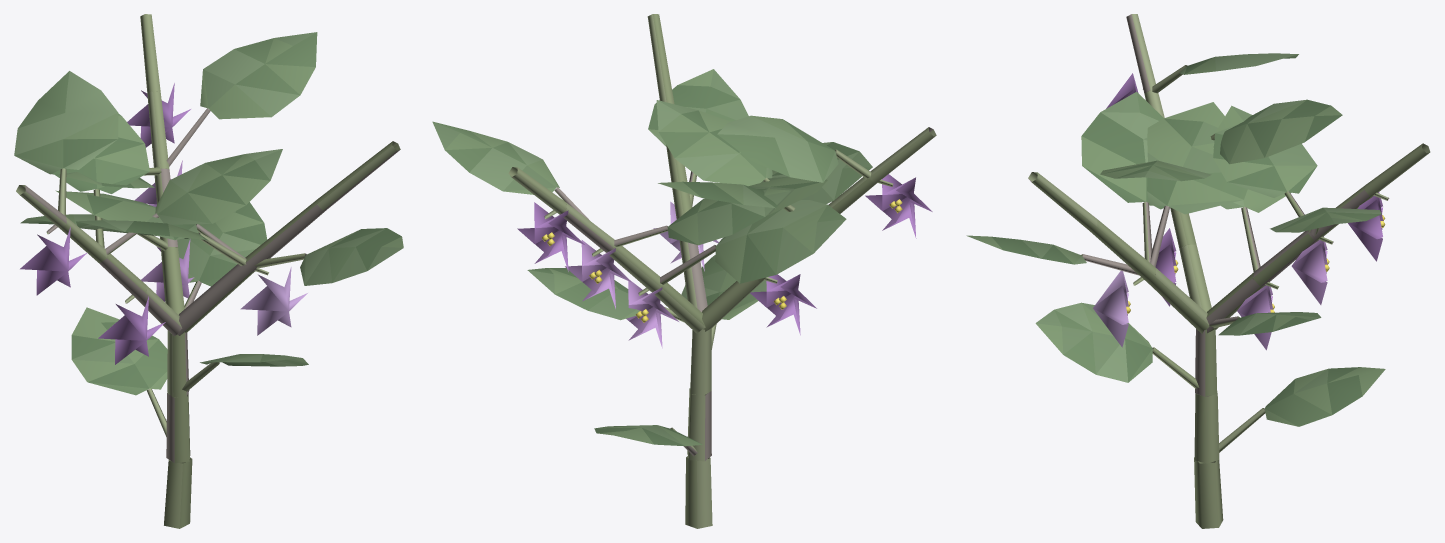
Rendered from aubergine_floraison.glb.
The picture shows the model from 3 angles, left to right: view 1: azimuth 30°, elevation 25°; view 2: azimuth 150°, elevation 25°; view 3: azimuth 270°, elevation 25°; orthographic projection.
Parts seen in each view (by area): view 1: Aubergine_Feuilles, Aubergine_Tiges, Aubergine_Fleurs; view 2: Aubergine_Feuilles, Aubergine_Tiges, Aubergine_Fleurs; view 3: Aubergine_Feuilles, Aubergine_Tiges, Aubergine_Fleurs.
Part boxes in pixels (x1=…): Aubergine_Feuilles: x1=14, y1=32, x2=403, y2=395; Aubergine_Tiges: x1=16, y1=14, x2=400, y2=528; Aubergine_Fleurs: x1=20, y1=83, x2=307, y2=364; Aubergine_Feuilles: x1=432, y1=69, x2=872, y2=446; Aubergine_Tiges: x1=508, y1=14, x2=936, y2=528; Aubergine_Fleurs: x1=517, y1=174, x2=932, y2=348; Aubergine_Feuilles: x1=966, y1=53, x2=1385, y2=426; Aubergine_Tiges: x1=1028, y1=14, x2=1430, y2=528; Aubergine_Fleurs: x1=1093, y1=73, x2=1382, y2=350.
Size of the model in its own units: 0.4494 by 0.4672 by 0.4484.
